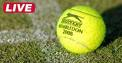tennis ball: (56, 4, 106, 55)
